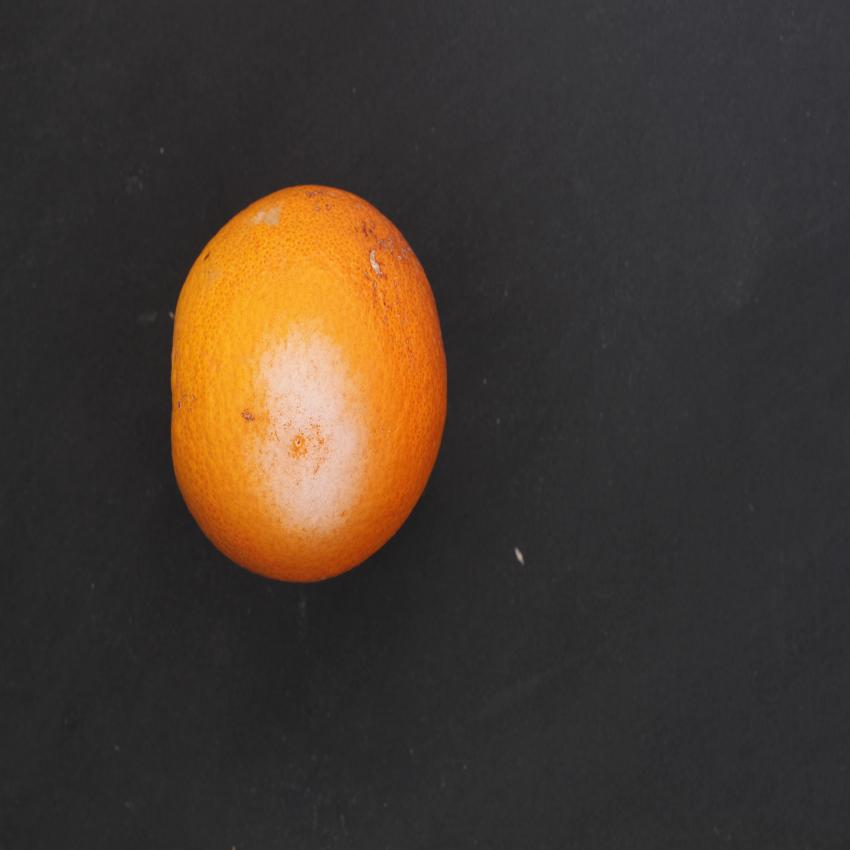Mal estado: (153, 152, 465, 592)
